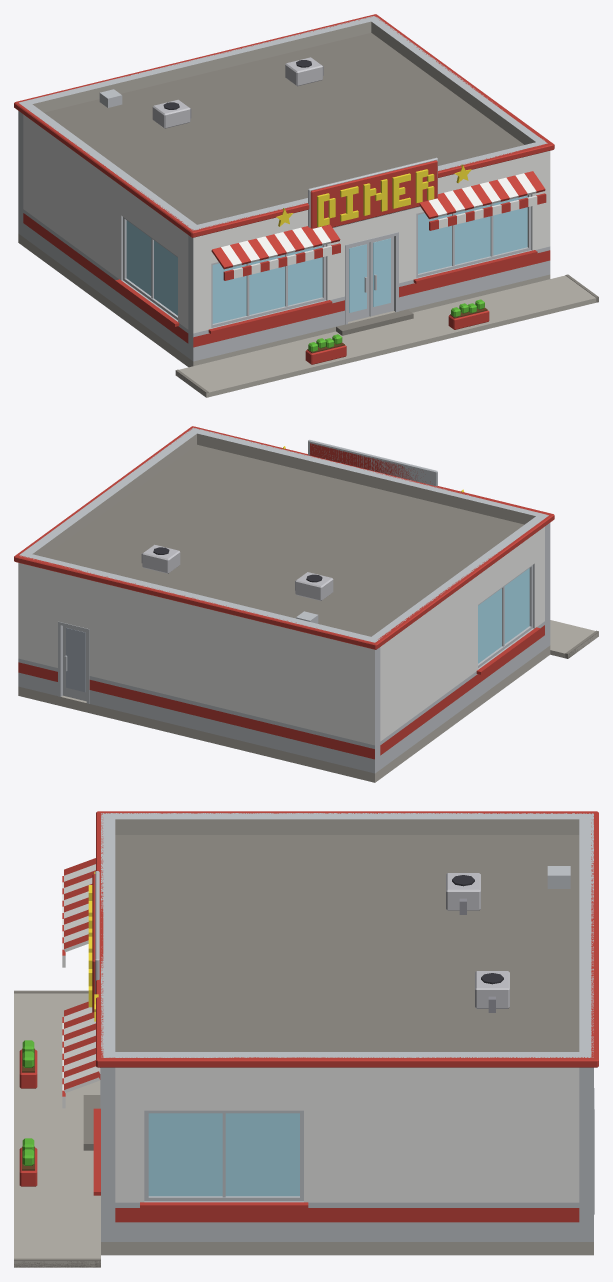
The model's file is Diner.fbx.
3 renders of one model, top to bottom at view 1: azimuth 30°, elevation 25°; view 2: azimuth 150°, elevation 25°; view 3: azimuth 270°, elevation 25°, orthographic. The views are drawn at different scales.
Visible parts, largest first — view 1: Diner, Diner_Roof, Diner_Glass, Diner_Sign, Diner_DoorR, Diner_DoorL; view 2: Diner, Diner_Roof, Diner_Glass, Diner_Sign, Diner_BackDoor; view 3: Diner, Diner_Roof, Diner_Glass, Diner_Sign.
Part boxes in pixels (x1=…): Diner: x1=14, y1=14, x2=598, y2=397; Diner_Roof: x1=44, y1=33, x2=523, y2=224; Diner_Glass: x1=126, y1=195, x2=527, y2=323; Diner_Sign: x1=276, y1=157, x2=471, y2=228; Diner_DoorR: x1=369, y1=236, x2=393, y2=316; Diner_DoorL: x1=348, y1=242, x2=369, y2=321; Diner: x1=14, y1=426, x2=598, y2=782; Diner_Roof: x1=44, y1=444, x2=523, y2=636; Diner_Glass: x1=478, y1=568, x2=529, y2=663; Diner_Sign: x1=282, y1=439, x2=463, y2=492; Diner_BackDoor: x1=63, y1=626, x2=86, y2=701; Diner: x1=14, y1=811, x2=598, y2=1267; Diner_Roof: x1=115, y1=835, x2=579, y2=1051; Diner_Glass: x1=148, y1=1113, x2=299, y2=1196; Diner_Sign: x1=88, y1=871, x2=99, y2=1021.
Size of the model in its own units: 44 by 16.58 by 40.35.
1 material, 1 textured.
